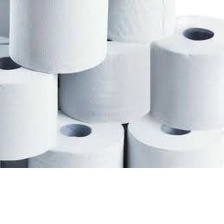tissue: (145, 10, 224, 132), (55, 34, 155, 126), (5, 0, 110, 76), (0, 31, 60, 164), (23, 110, 126, 167), (123, 110, 224, 167), (109, 0, 180, 46)
